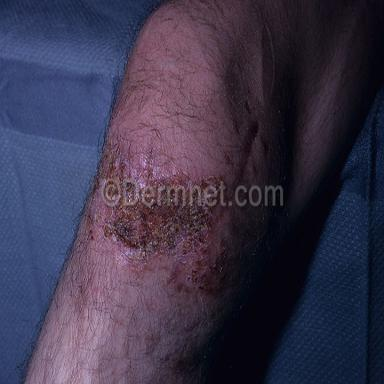Impetigo: (100, 206, 243, 294), (90, 123, 222, 198)
